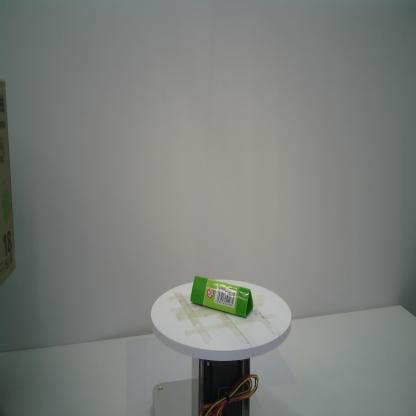Stationery: (190, 275, 254, 318)
